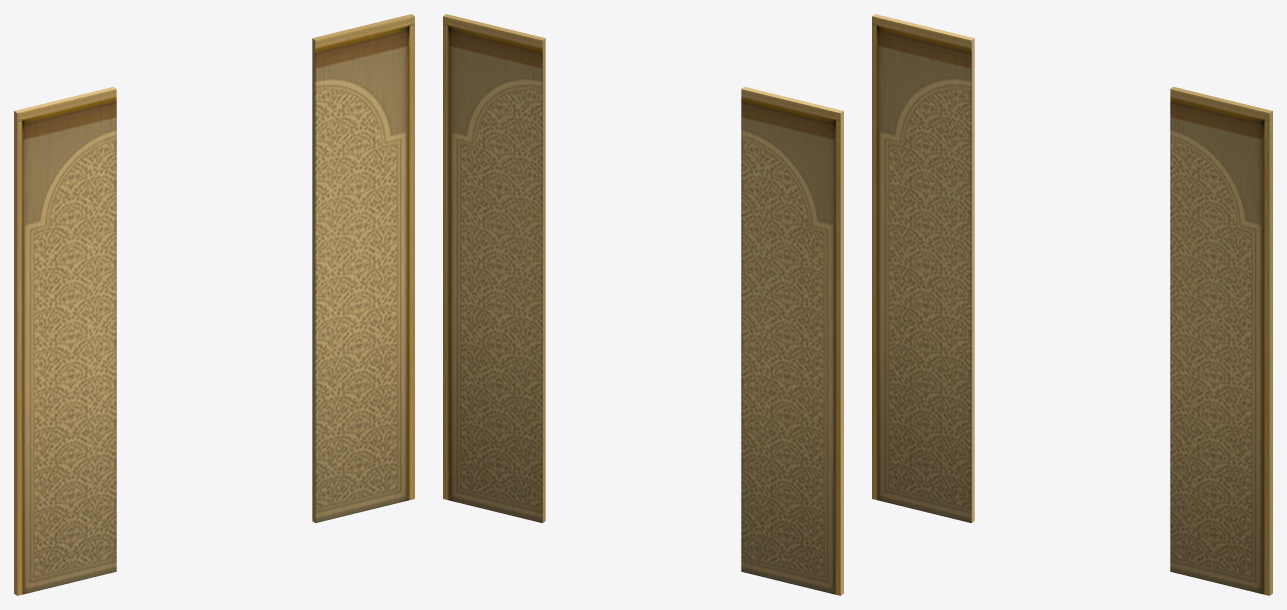
File: landing_door_TM022.glb
3 renders of one model, left to right at view 1: azimuth 30°, elevation 25°; view 2: azimuth 150°, elevation 25°; view 3: azimuth 330°, elevation 25°, orthographic.
Parts seen in each view (by area): view 1: Landing_Door_L, Landing_Door_R; view 2: Landing_Door_L, Landing_Door_R; view 3: Landing_Door_L, Landing_Door_R.
Part boxes in pixels (left/top/right/bottom): Landing_Door_L: left=14, top=87, right=116, bottom=595; Landing_Door_R: left=312, top=14, right=414, bottom=522; Landing_Door_L: left=741, top=87, right=843, bottom=595; Landing_Door_R: left=443, top=14, right=545, bottom=522; Landing_Door_L: left=872, top=14, right=974, bottom=522; Landing_Door_R: left=1170, top=87, right=1272, bottom=595.
Bounding box in the file's own units: 1.81 × 2.1 × 0.025.
1 material, 1 textured.
